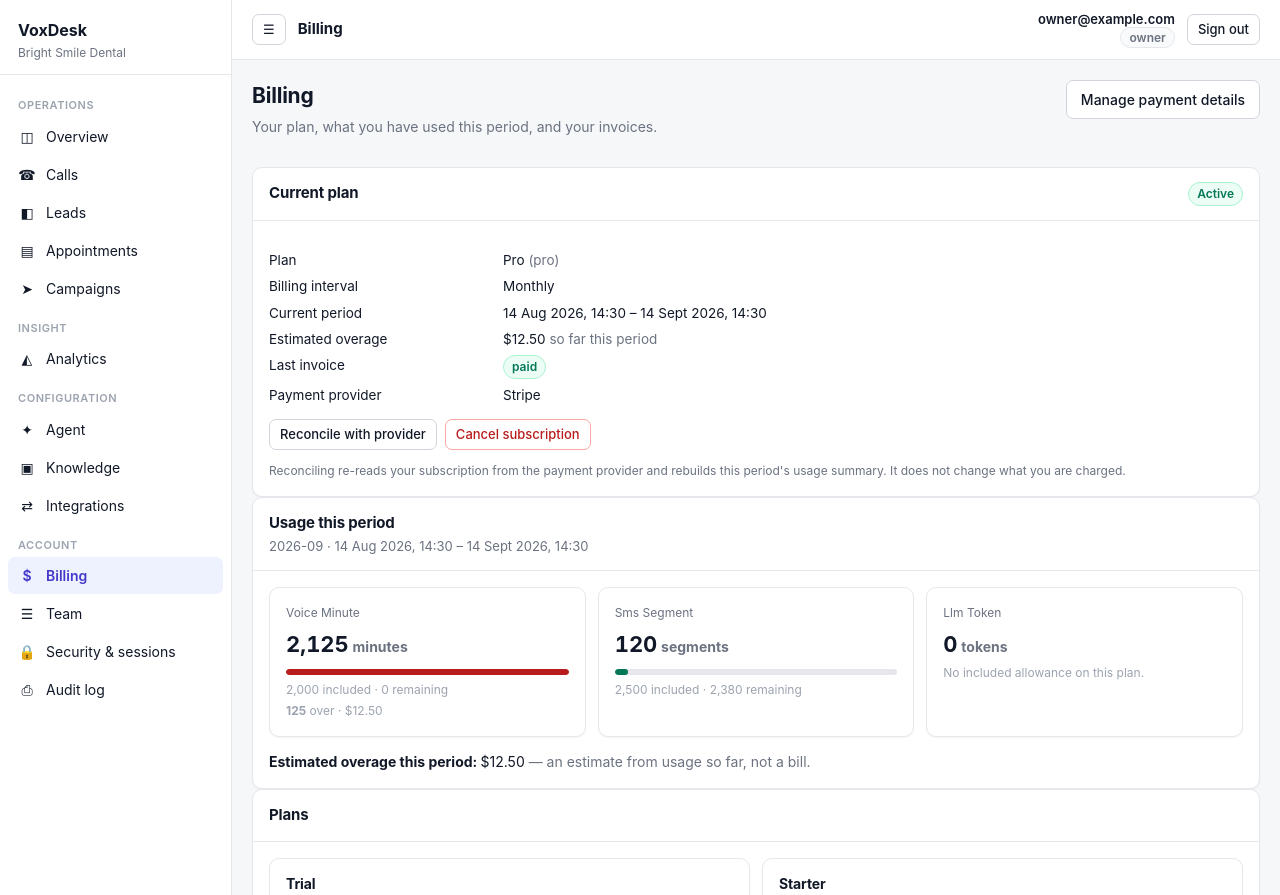
it: portal › explains an unsupported provider instead of showing an error
Expected: the heading "Billing" is shown, [252, 83, 314, 108]
Click the button "Manage payment details" at (1163, 100), box [1066, 80, 1260, 119]
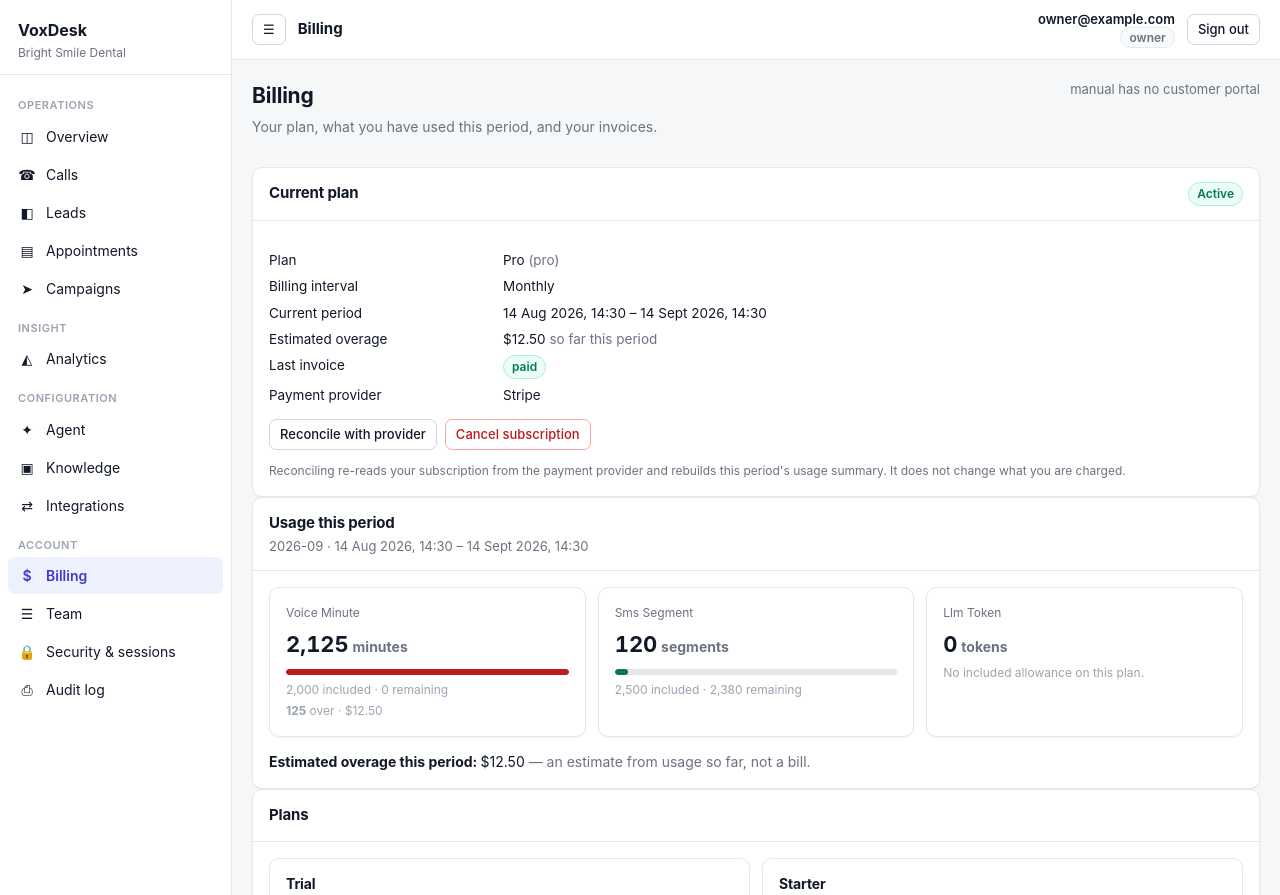
Result: the text "manual has no customer portal" is shown at [1070, 80, 1260, 100]
